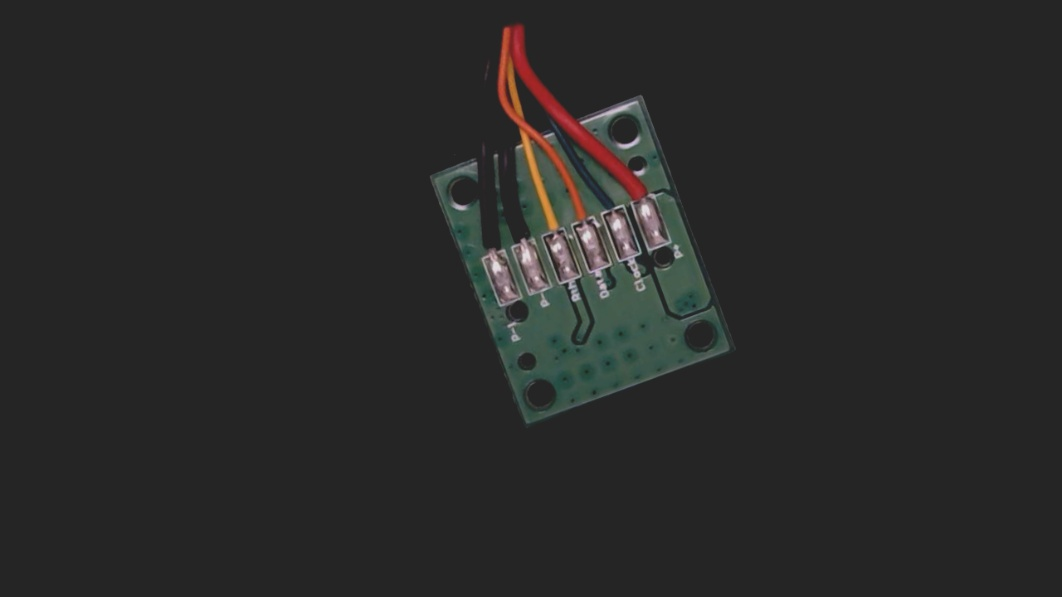Black: (494, 196, 541, 262)
Black1: (465, 211, 510, 272)
Green: (592, 176, 630, 229)
Orange: (556, 174, 599, 237)
Red: (614, 154, 660, 218)
Yellow: (524, 182, 571, 250)
